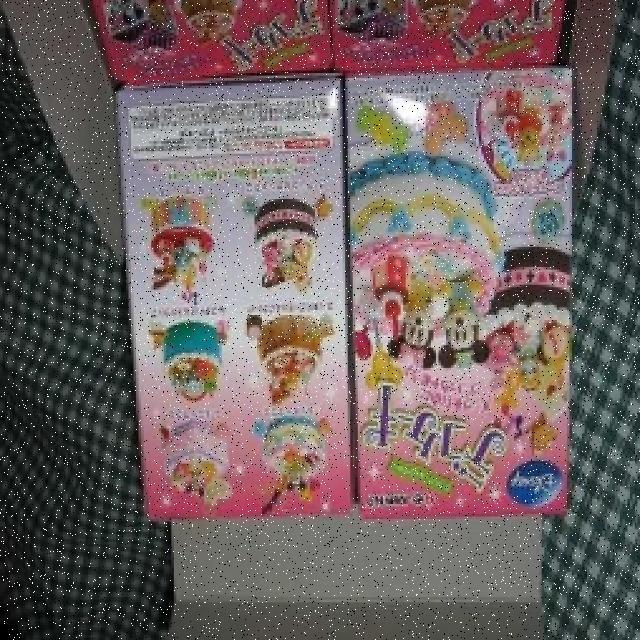box: (112, 81, 353, 532), (340, 61, 571, 518), (90, 0, 332, 71), (335, 0, 572, 71)
